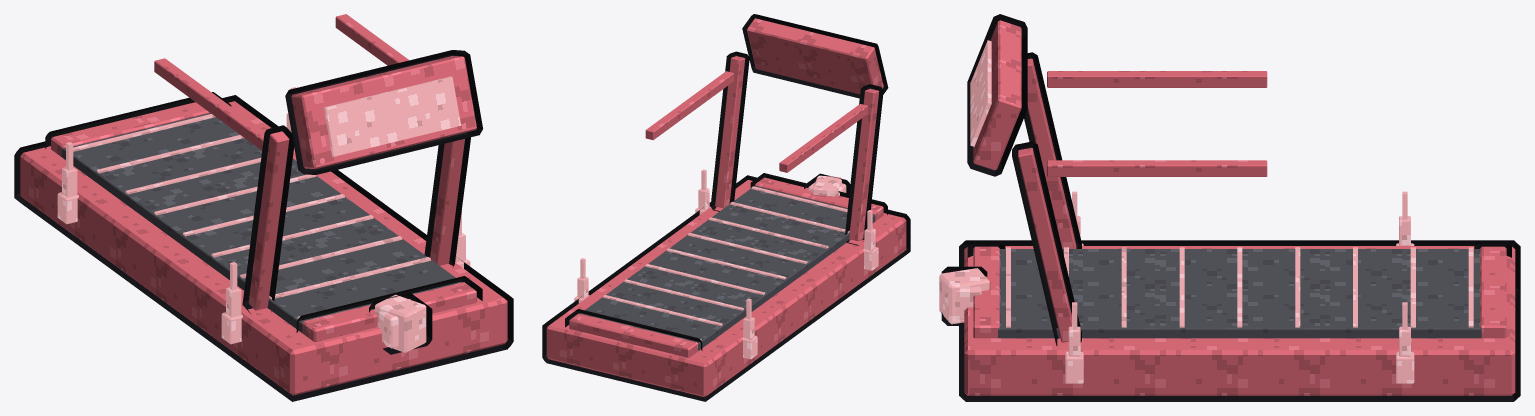
Rendered from treadmill_07.glb.
3 views of the same model, side by side, from view 1: azimuth 30°, elevation 25°; view 2: azimuth 150°, elevation 25°; view 3: azimuth 270°, elevation 25° (orthographic). The views are drawn at different scales.
Visible parts, largest first — view 1: model; view 2: model; view 3: model.
Part boxes in pixels (<box>): model: <box>14,14,513,401</box>; model: <box>542,14,910,401</box>; model: <box>939,14,1520,401</box>.
Bounding box in the file's own units: 1.33 × 1.54 × 2.76.
4 materials, 3 textured.
